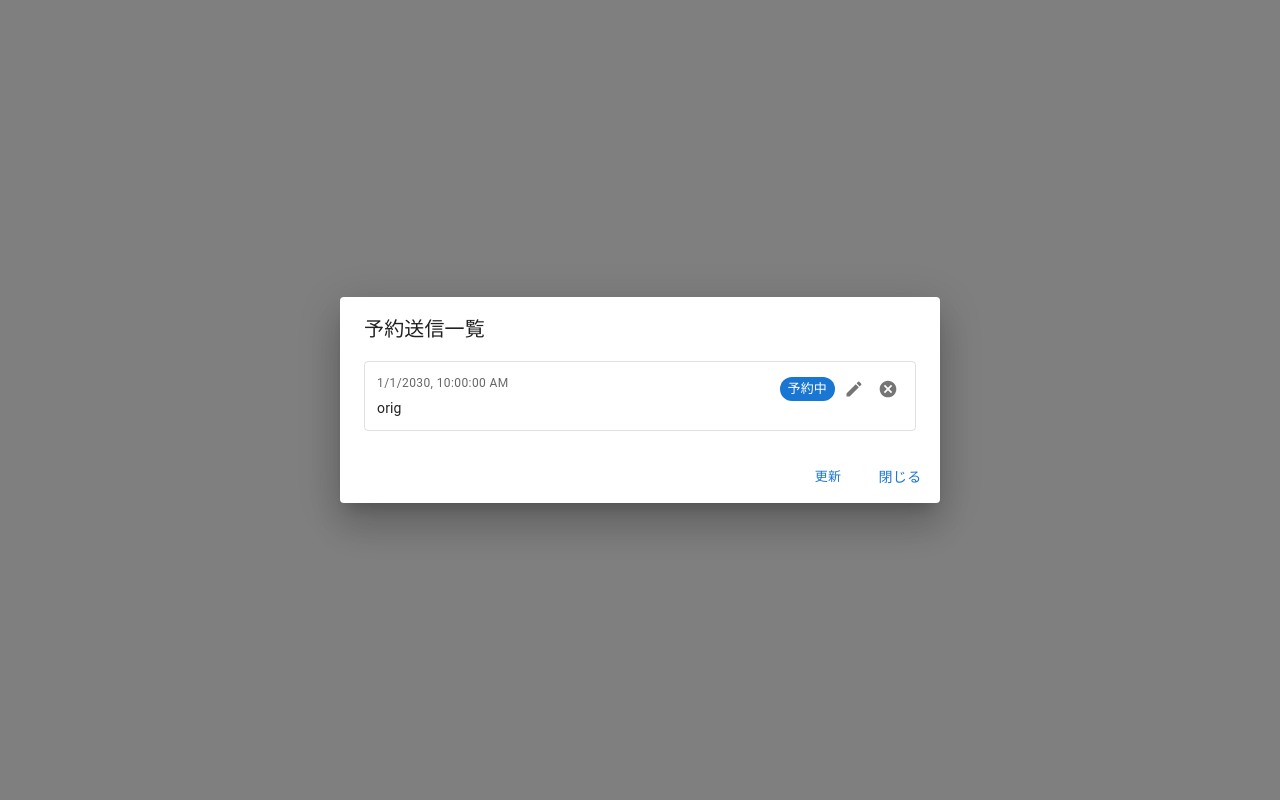
Test: ScheduledMessagesDialog › 編集 › pending の予約の「編集」を押すとインラインで編集フォームが開く
Click the button with test id "EditIcon": x=854, y=389 [839,374,869,404]
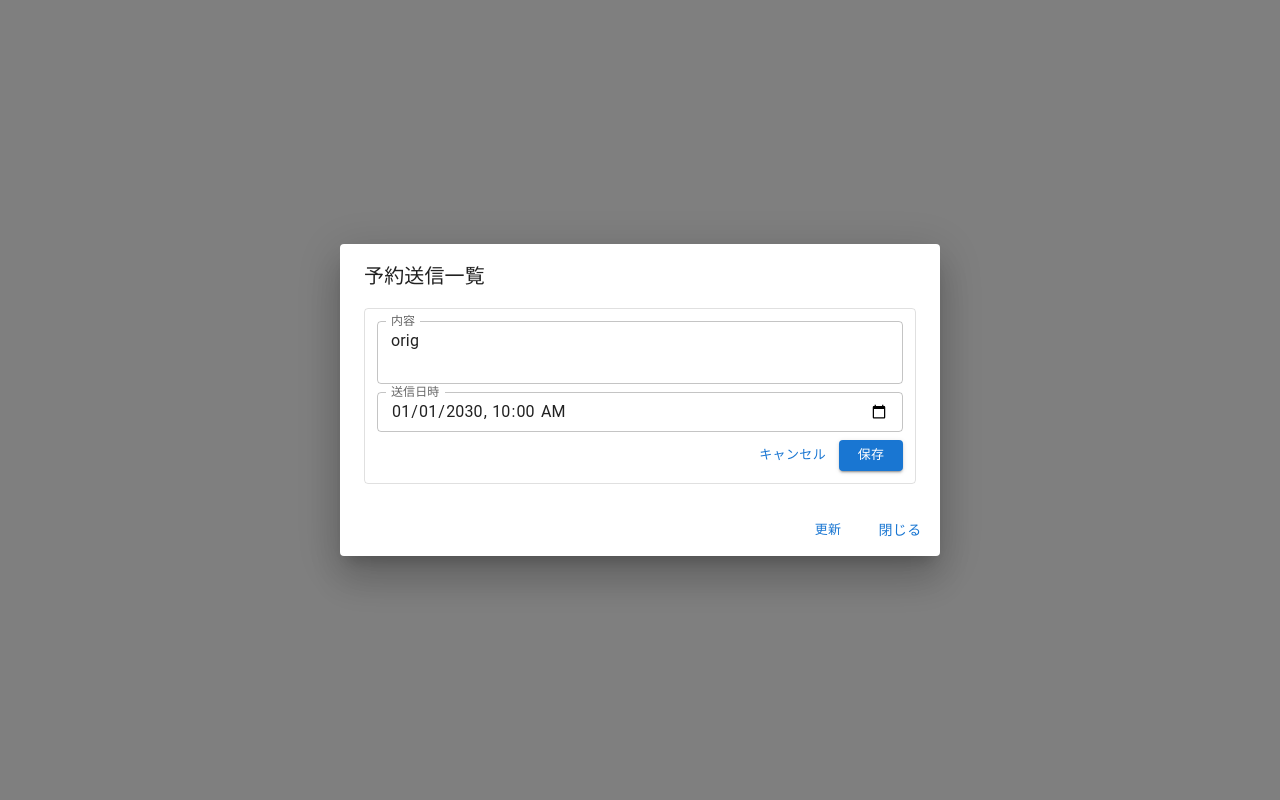
expect the text box labelled "内容" is shown: met, box [391,329,889,375]
expect the field labelled "送信日時" is shown: met, box [377,392,903,432]
